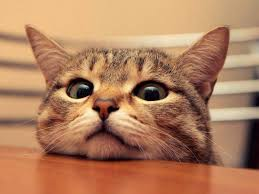cat: (20, 21, 237, 162)
